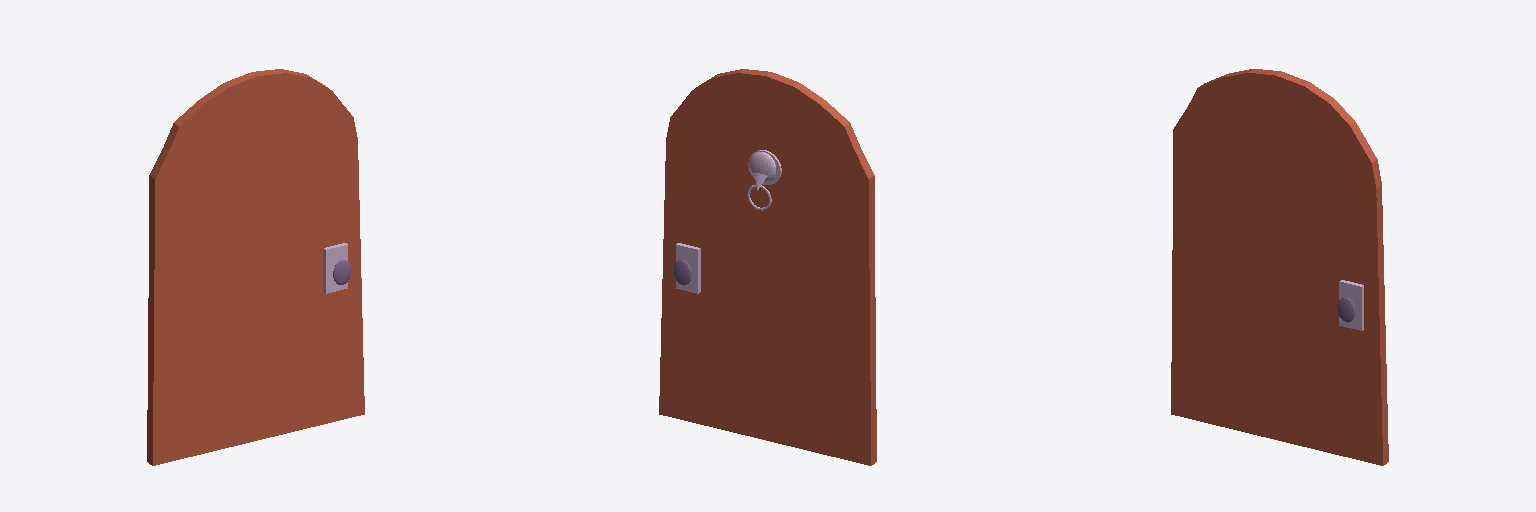
The picture shows the model from 3 angles: view 1: azimuth 30°, elevation 25°; view 2: azimuth 150°, elevation 25°; view 3: azimuth 330°, elevation 25°; orthographic projection.
Visible parts, largest first — view 1: puerta:pCube1 puerta:polySurface2 puerta:polySurface3 puerta:pol, puerta:pCube16 puerta:polySurface3 puerta:polySurface4 puerta:po; view 2: puerta:pCube1 puerta:polySurface2 puerta:polySurface3 puerta:pol, puerta:pCube16 puerta:polySurface3 puerta:polySurface4 puerta:po, puerta:pSphere4 puerta:polySurface3 puerta:polySurface4 puerta:p; view 3: puerta:pCube1 puerta:polySurface2 puerta:polySurface3 puerta:pol, puerta:pCube16 puerta:polySurface3 puerta:polySurface4 puerta:po.
Part boxes in pixels (x1,y1,x2,y2): puerta:pCube1 puerta:polySurface2 puerta:polySurface3 puerta:pol: (147,69,364,465); puerta:pCube16 puerta:polySurface3 puerta:polySurface4 puerta:po: (323,243,347,293); puerta:pCube1 puerta:polySurface2 puerta:polySurface3 puerta:pol: (659,69,876,465); puerta:pCube16 puerta:polySurface3 puerta:polySurface4 puerta:po: (676,243,700,293); puerta:pSphere4 puerta:polySurface3 puerta:polySurface4 puerta:p: (749,152,775,181); puerta:pCube1 puerta:polySurface2 puerta:polySurface3 puerta:pol: (1171,69,1388,465); puerta:pCube16 puerta:polySurface3 puerta:polySurface4 puerta:po: (1339,280,1363,330).
Size of the model in its own units: 153 by 251 by 28.45.
Materials: 3 (3 with a texture image).